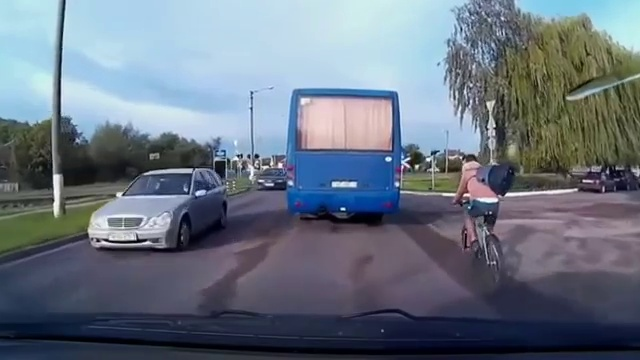cyclist_back: (452, 149, 510, 286)
